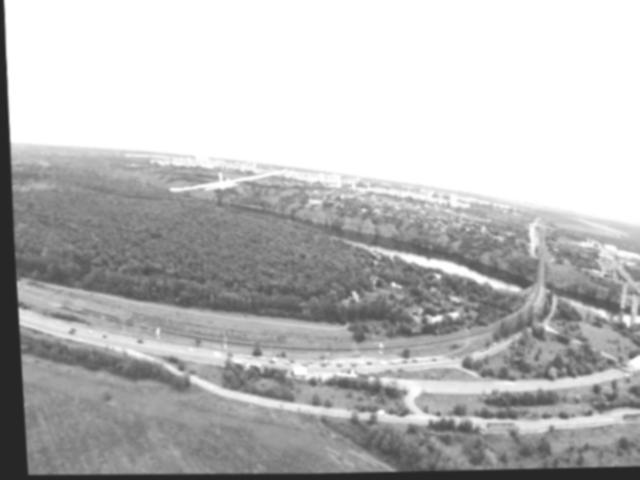hedef: (165, 157, 290, 210)
